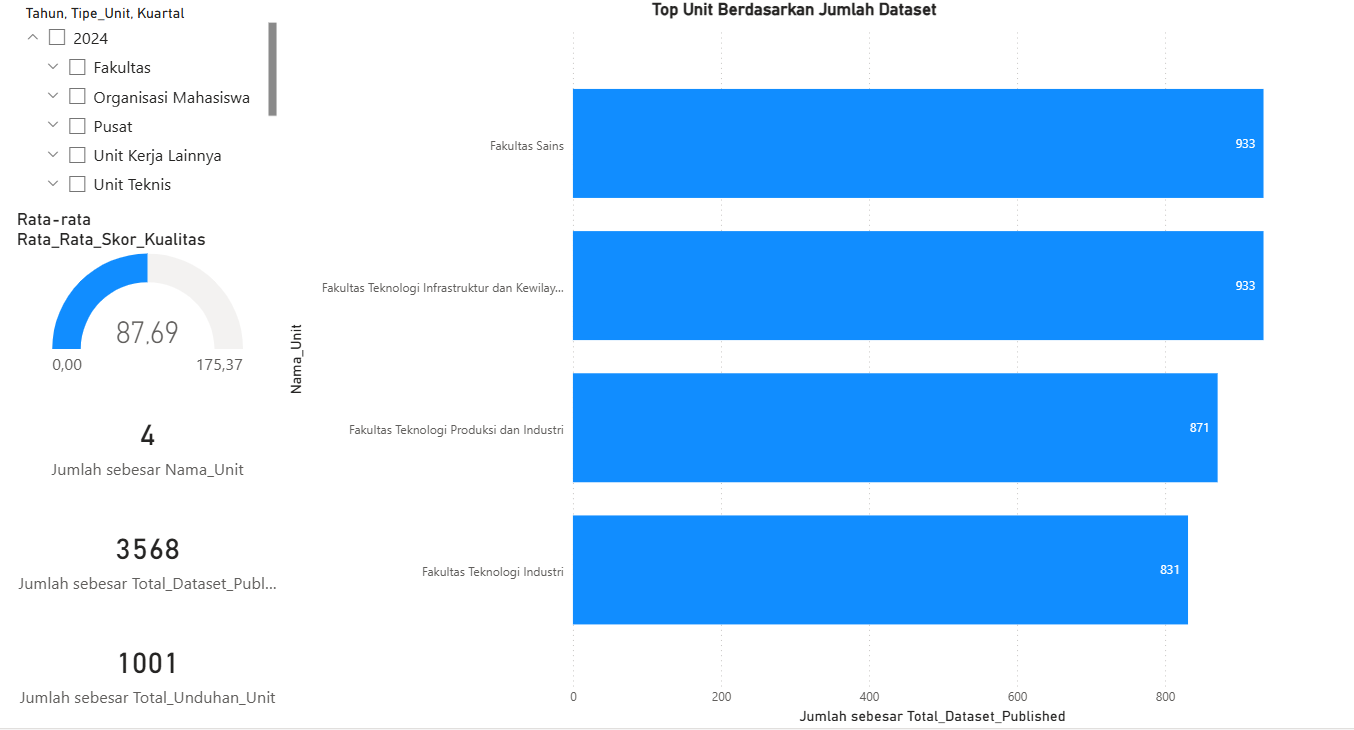

The dashboard page shown, as its layout file describes it:
{"tool":"powerbi","page":{"name":"Executive Governance","canvas":[1280,720],"ordinal":0},"visuals":[{"type":"clusteredBarChart","title":"Top Unit Berdasarkan Jumlah Dataset","fields":{"Category":["vw_Executive_Governance (4).Nama_Unit"],"Y":["Sum(vw_Executive_Governance (4).Total_Dataset_Published)"]},"box":[284.7,19.7,976.7,673.8],"z":0},{"type":"slicer","title":"Filter","fields":{"Values":["vw_Executive_Governance (4).Tahun","vw_Executive_Governance (4).Tipe_Unit","vw_Executive_Governance (4).Kuartal"]},"box":[6.1,19.7,266.5,93.9],"z":1000},{"type":"card","fields":{"Values":["Sum(vw_Executive_Governance (4).Total_Dataset_Published)"]},"box":[6.1,445.2,266.5,112.1],"z":2000},{"type":"card","fields":{"Values":["Sum(vw_Executive_Governance (4).Total_Unduhan_Unit)"]},"box":[6.5,577.5,266.9,113.2],"z":3000},{"type":"card","fields":{"Values":["Count(vw_Executive_Governance (4).Nama_Unit)"]},"box":[6.1,315,266.5,113.6],"z":4000},{"type":"gauge","fields":{"Y":["Avg(vw_Executive_Governance (4).Rata_Rata_Skor_Kualitas)"]},"box":[6.1,127.2,266.5,174.1],"z":5000}]}

Visuals, with their boxes on the page's 1280x720 design canvas (x1, y1, x2, y2). These are canvas units, not pixel positions in the 1354x730 screenshot, which may show the page scaled, cropped or inside an application window:
"Top Unit Berdasarkan Jumlah Dataset" clusteredBarChart: bbox=(285, 20, 1261, 694)
"Filter" slicer: bbox=(6, 20, 273, 114)
card - Sum(vw_Executive_Governance (4).Total_Dataset_Published): bbox=(6, 445, 273, 557)
card - Sum(vw_Executive_Governance (4).Total_Unduhan_Unit): bbox=(6, 578, 273, 691)
card - Count(vw_Executive_Governance (4).Nama_Unit): bbox=(6, 315, 273, 429)
gauge - Avg(vw_Executive_Governance (4).Rata_Rata_Skor_Kualitas): bbox=(6, 127, 273, 301)
